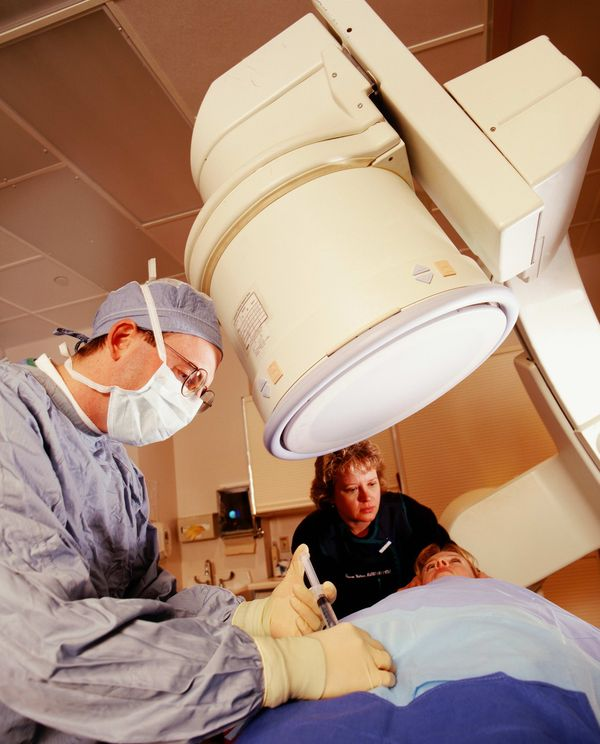face: (337, 461, 379, 521)
face_mask: (127, 328, 219, 452)
